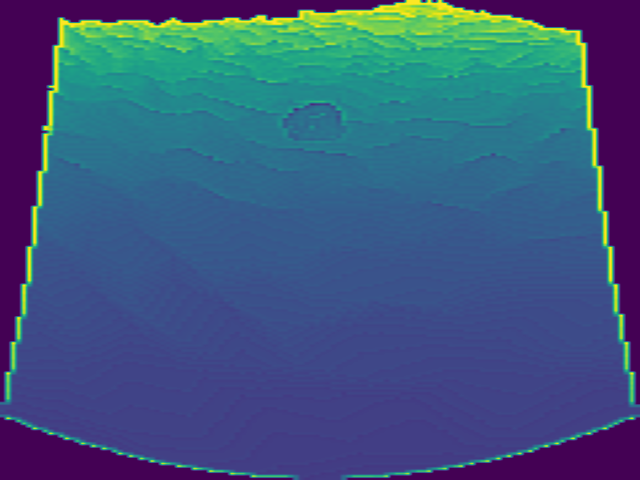car_0198: (283, 100, 348, 141)
